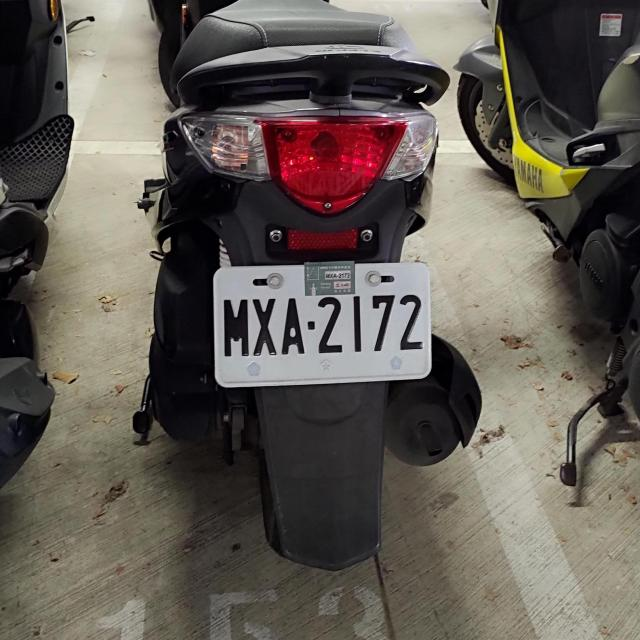W: (212, 261, 433, 388)
